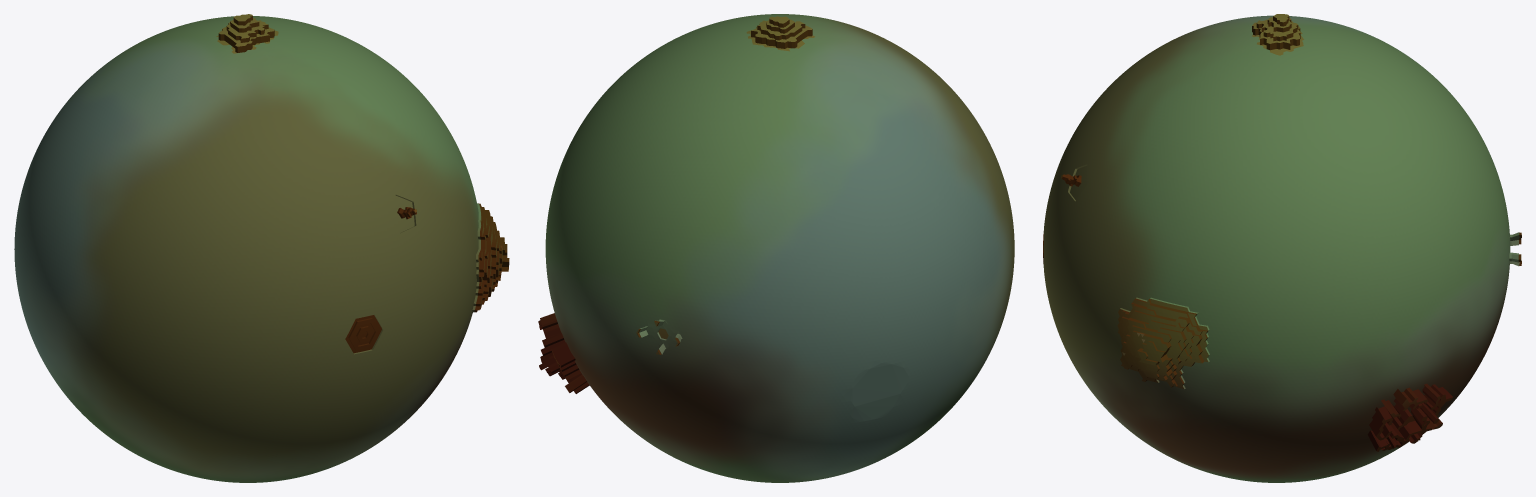
The picture shows the model from 3 angles, left to right: view 1: azimuth 30°, elevation 25°; view 2: azimuth 150°, elevation 25°; view 3: azimuth 270°, elevation 25°; orthographic projection.
Parts seen in each view (by area): view 1: Icosphere; view 2: Icosphere; view 3: Icosphere.
Part boxes in pixels (x1,y1,x2,y2): Icosphere: (14, 14, 509, 482); Icosphere: (538, 14, 1014, 482); Icosphere: (1043, 14, 1521, 482).
Size of the model in its own units: 20006 by 20900 by 20493.
